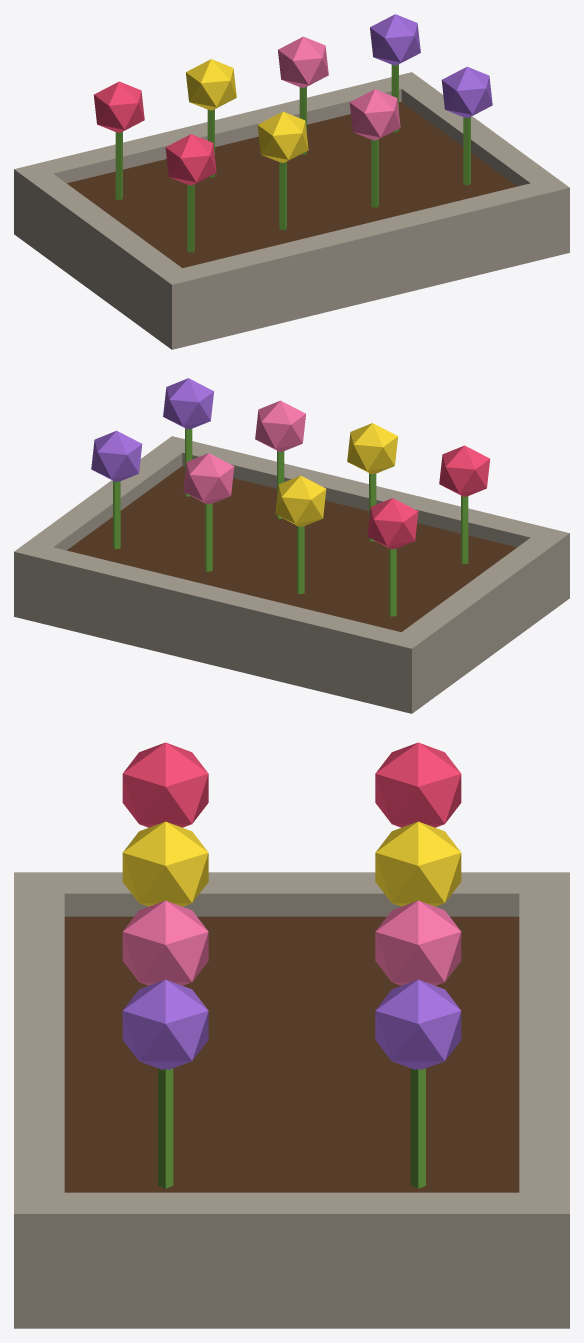
The model's file is flower_bed.glb.
The picture shows the model from 3 angles, top to bottom: view 1: azimuth 30°, elevation 25°; view 2: azimuth 150°, elevation 25°; view 3: azimuth 270°, elevation 25°; orthographic projection. The views are drawn at different scales.
Visible parts, largest first — view 1: flower_bed; view 2: flower_bed; view 3: flower_bed.
Boxes of the visible parts, <box> form: flower_bed: <box>14,14,569,349</box>; flower_bed: <box>14,378,569,713</box>; flower_bed: <box>14,742,569,1328</box>.
Size of the model in its own units: 1.6 by 0.65 by 1.1.
